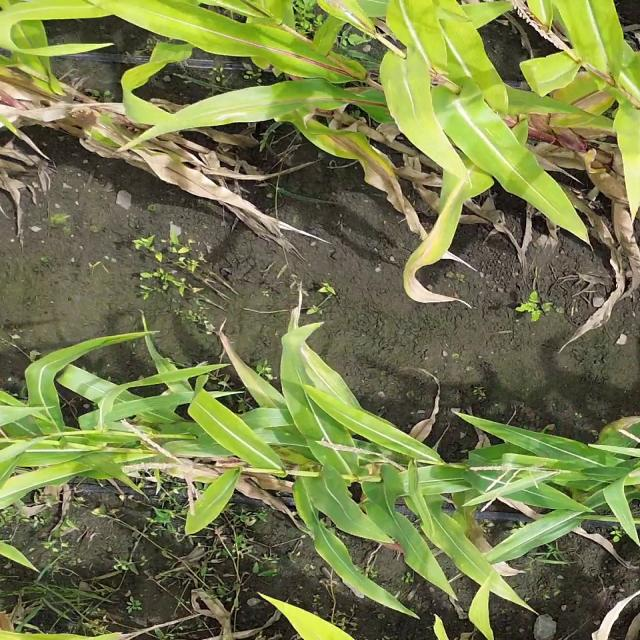gray-leaf-spot: (133, 422, 236, 467)
northern-leaf-blight: (304, 119, 420, 208)
